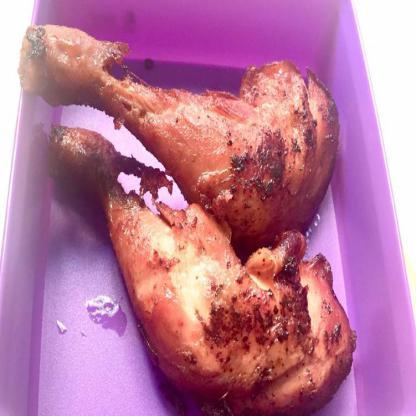ayam_goreng: (49, 129, 356, 413), (18, 22, 340, 243)
